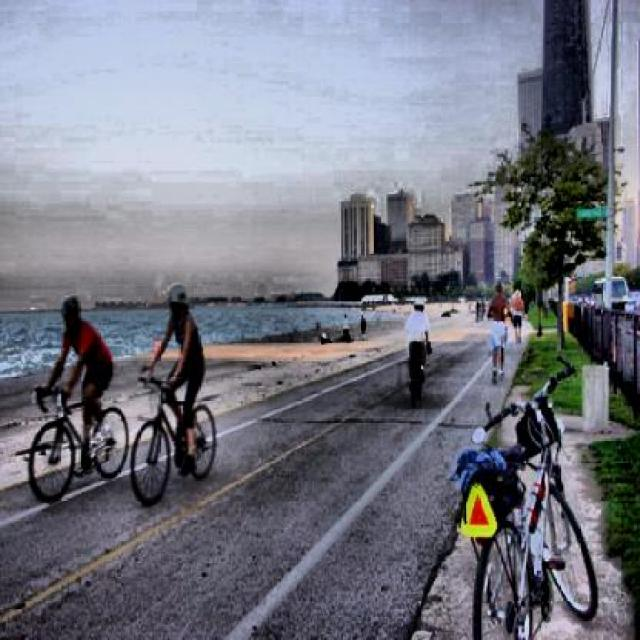bikerider: (21, 277, 136, 509), (128, 286, 229, 517), (394, 285, 435, 420)
